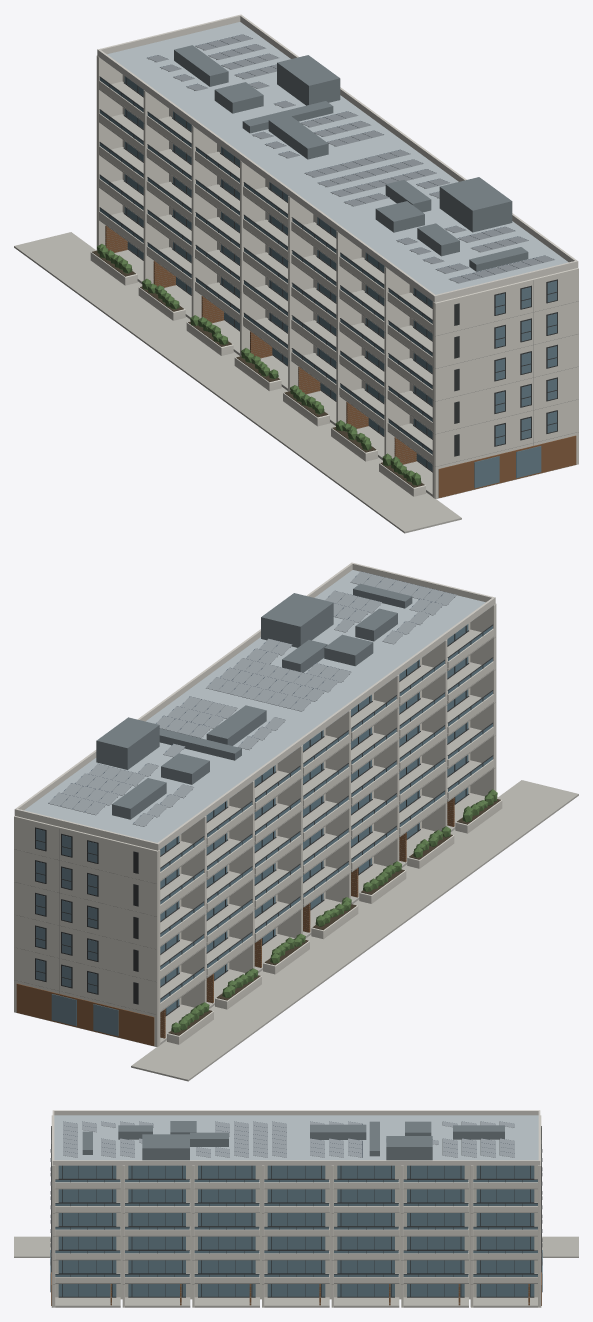
The model's file is Richmond-Solar-90-Panels.glb.
3 renders of one model, top to bottom at view 1: azimuth 30°, elevation 25°; view 2: azimuth 150°, elevation 25°; view 3: azimuth 270°, elevation 25°, orthographic. The views are drawn at different scales.
Visible parts, largest first — view 1: Roof surface, Pale end wall, Street footpath, Parapet — 0.6 m assumed, O02 south-east raised enclosure, Ground end timber wall, Projecting precast dividing wall.005, Projecting precast dividing wall.006, Projecting precast dividing wall.001, Projecting precast dividing wall.002, Projecting precast dividing wall.003, Projecting precast dividing wall.004 (+16 smaller); view 2: Pale end wall.001, Street footpath, Roof surface, Parapet — 0.6 m assumed, Ground end timber wall.001, Projecting precast dividing wall.002, Projecting precast dividing wall.001, O02 south-east raised enclosure, Projecting precast dividing wall.006, Projecting precast dividing wall.005, Projecting precast dividing wall.004, Projecting precast dividing wall.003 (+16 smaller); view 3: Roof surface, Six-level core — 18 m height ASSUMED, Parapet — 0.6 m assumed.001, Parapet — 0.6 m assumed, Street footpath, O02 south-east raised enclosure, O01 north-east raised enclosure, O04 upper-middle equipment row, Courtyard — inferred recessed glazing L2, Courtyard — inferred recessed glazing L2.003, Courtyard — inferred recessed glazing L2.006, Courtyard — inferred recessed glazing L3 (+97 smaller).
Part boxes in pixels (<box>): Roof surface: <box>106,22,568,301</box>; Pale end wall: <box>434,268,578,498</box>; Street footpath: <box>14,232,461,533</box>; Parapet — 0.6 m assumed: <box>97,49,436,302</box>; O02 south-east raised enclosure: <box>439,177,512,232</box>; Ground end timber wall: <box>438,435,576,497</box>; Projecting precast dividing wall.005: <box>191,125,216,318</box>; Projecting precast dividing wall.006: <box>143,90,168,283</box>; Projecting precast dividing wall.001: <box>384,266,409,458</box>; Projecting precast dividing wall.002: <box>336,231,361,423</box>; Projecting precast dividing wall.003: <box>288,196,313,391</box>; Projecting precast dividing wall.004: <box>240,160,265,356</box>; Pale end wall.001: <box>14,816,158,1046</box>; Street footpath: <box>131,780,578,1081</box>; Roof surface: <box>24,570,492,849</box>; Parapet — 0.6 m assumed: <box>156,597,494,850</box>; Ground end timber wall.001: <box>16,983,154,1045</box>; Projecting precast dividing wall.002: <box>374,675,399,866</box>; Projecting precast dividing wall.001: <box>422,639,447,831</box>; O02 south-east raised enclosure: <box>261,593,333,647</box>; Projecting precast dividing wall.006: <box>181,816,206,1007</box>; Projecting precast dividing wall.005: <box>229,780,254,972</box>; Projecting precast dividing wall.004: <box>277,745,302,938</box>; Projecting precast dividing wall.003: <box>325,710,350,902</box>; Roof surface: <box>54,1115,538,1160</box>; Six-level core — 18 m height ASSUMED: <box>55,1165,537,1299</box>; Parapet — 0.6 m assumed.001: <box>52,1160,540,1165</box>; Parapet — 0.6 m assumed: <box>52,1110,540,1115</box>; Street footpath: <box>14,1236,578,1257</box>; O02 south-east raised enclosure: <box>142,1134,189,1160</box>; O01 north-east raised enclosure: <box>386,1136,432,1160</box>; O04 upper-middle equipment row: <box>310,1124,366,1139</box>; Courtyard — inferred recessed glazing L2: <box>58,1260,116,1273</box>; Courtyard — inferred recessed glazing L2.003: <box>267,1260,325,1273</box>; Courtyard — inferred recessed glazing L2.006: <box>476,1260,534,1273</box>; Courtyard — inferred recessed glazing L3: <box>58,1236,116,1249</box>.
Size of the model in its own units: 19.3 by 20.16 by 65.
